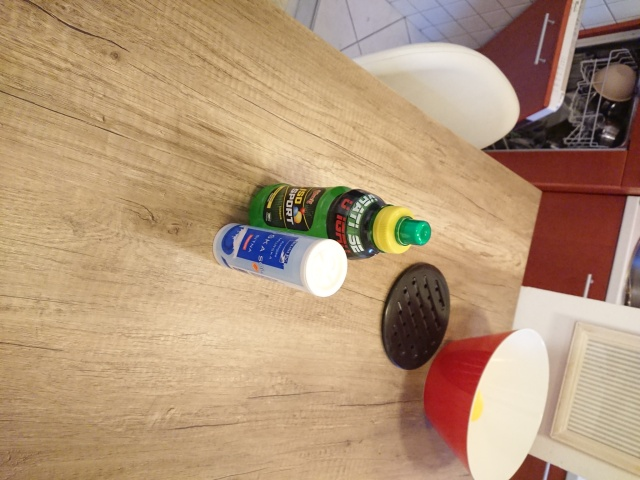Solana Pag Fine Sea Salt 250g: (211, 221, 350, 300)
Vindi Iso Sport Lemon-Grapefruit 500mL: (247, 181, 435, 262)
